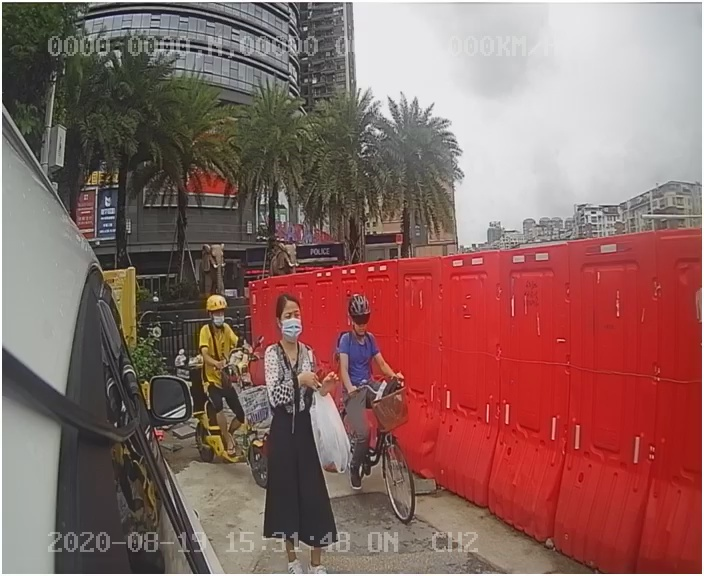person: (258, 296, 343, 548)
